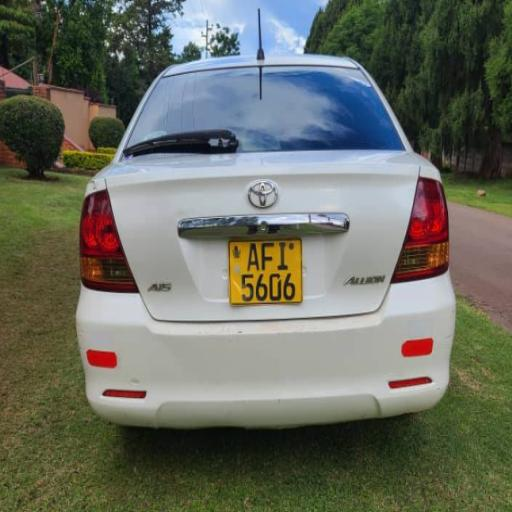number-plates: (228, 233, 301, 303)
